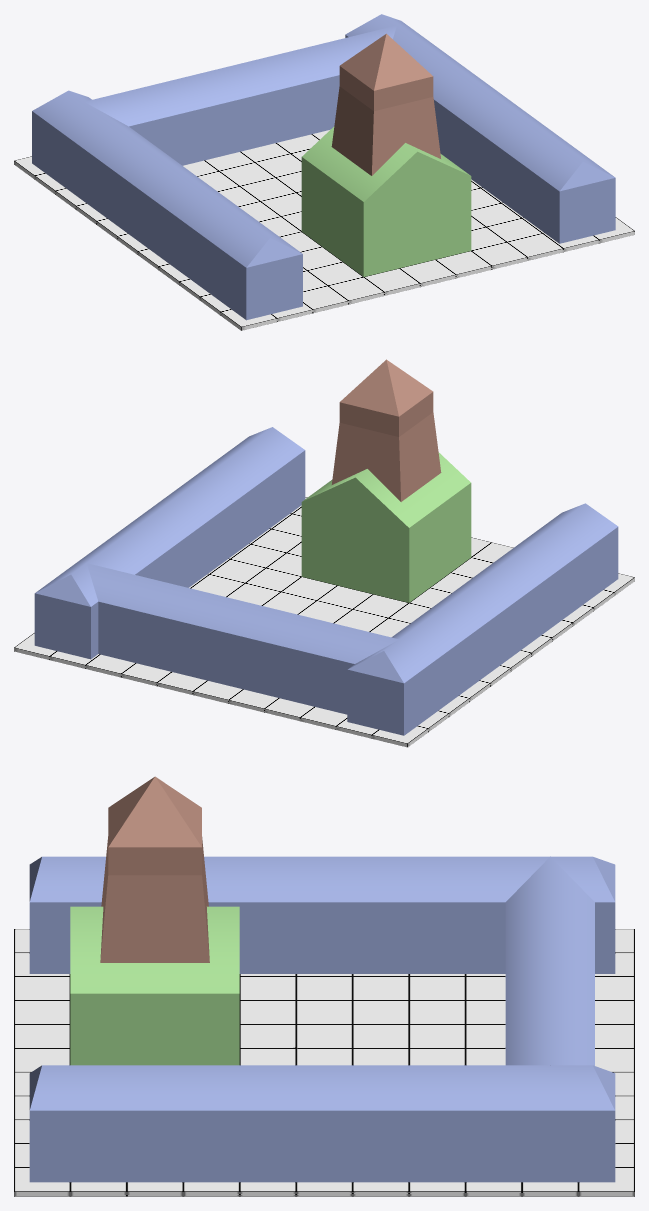
The model's file is XG_Monastery.glb.
3 views of the same model, one above another, from view 1: azimuth 30°, elevation 25°; view 2: azimuth 150°, elevation 25°; view 3: azimuth 270°, elevation 25° (orthographic). The views are drawn at different scales.
Parts seen in each view (by area): view 1: building_7m_3m_034, ground_11_x_11_017, building_7m_3m_033, Box645; view 2: building_7m_3m_034, ground_11_x_11_017, building_7m_3m_033, Box645; view 3: building_7m_3m_034, ground_11_x_11_017, building_7m_3m_033, Box645.
Boxes of the visible parts, left/top/right/bottom form: building_7m_3m_034: left=32, top=14, right=615, bottom=320; ground_11_x_11_017: left=14, top=130, right=634, bottom=330; building_7m_3m_033: left=301, top=126, right=471, bottom=276; Box645: left=331, top=33, right=440, bottom=175; building_7m_3m_034: left=34, top=427, right=618, bottom=735; ground_11_x_11_017: left=14, top=497, right=634, bottom=747; building_7m_3m_033: left=301, top=452, right=471, bottom=602; Box645: left=331, top=359, right=441, bottom=501; building_7m_3m_034: left=29, top=856, right=615, bottom=1182; ground_11_x_11_017: left=14, top=929, right=634, bottom=1196; building_7m_3m_033: left=70, top=906, right=239, bottom=1065; Box645: left=100, top=776, right=209, bottom=962.
Bounding box in the file's own units: 11 × 5.65 × 11.
Materials: 4 (1 with a texture image).
